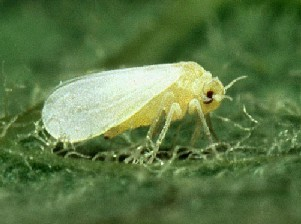whitefly: (43, 60, 244, 159)
